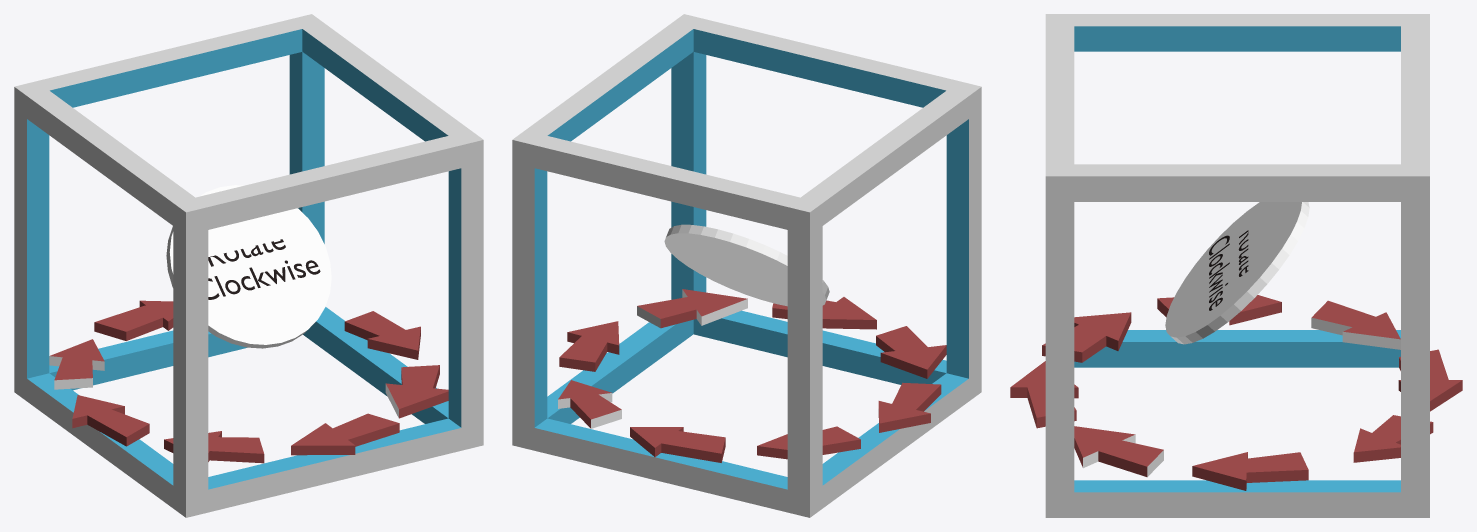
Rendered from Rotate Clockwise.glb.
The picture shows the model from 3 angles, left to right: view 1: azimuth 30°, elevation 25°; view 2: azimuth 150°, elevation 25°; view 3: azimuth 270°, elevation 25°; orthographic projection. The views are drawn at different scales.
Visible parts, largest first — view 1: Cube, Cylinder, Text; view 2: Cube, Cylinder; view 3: Cube, Cylinder, Text.
Boxes of the visible parts, x1,y1,x2,y2 form: Cube: (14, 14, 483, 517); Cylinder: (49, 185, 448, 463); Text: (208, 239, 320, 299); Cube: (512, 14, 981, 517); Cylinder: (558, 224, 946, 462); Cube: (1045, 14, 1429, 517); Cylinder: (1010, 202, 1462, 490); Text: (1209, 230, 1248, 310).
Size of the model in its own units: 3.25 by 2.66 by 3.19.
